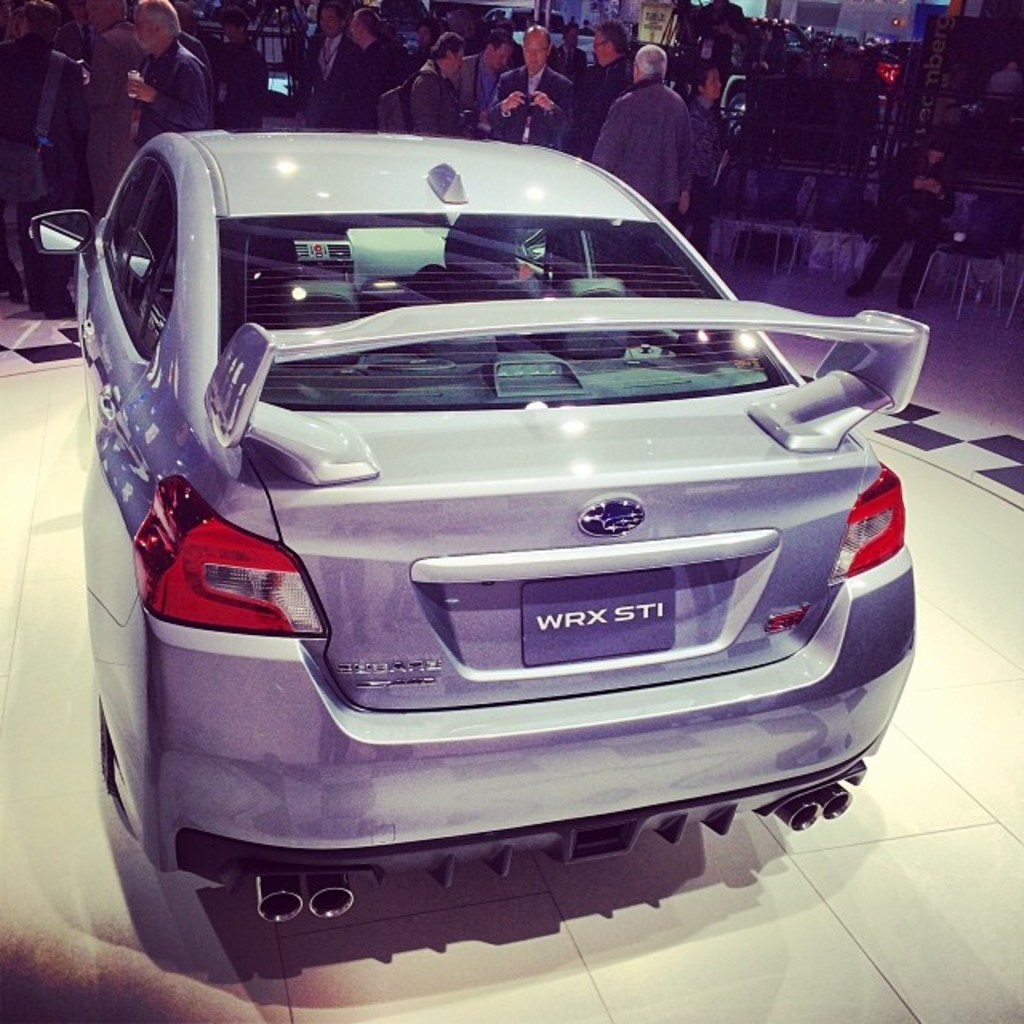Car: (43, 115, 928, 992)
